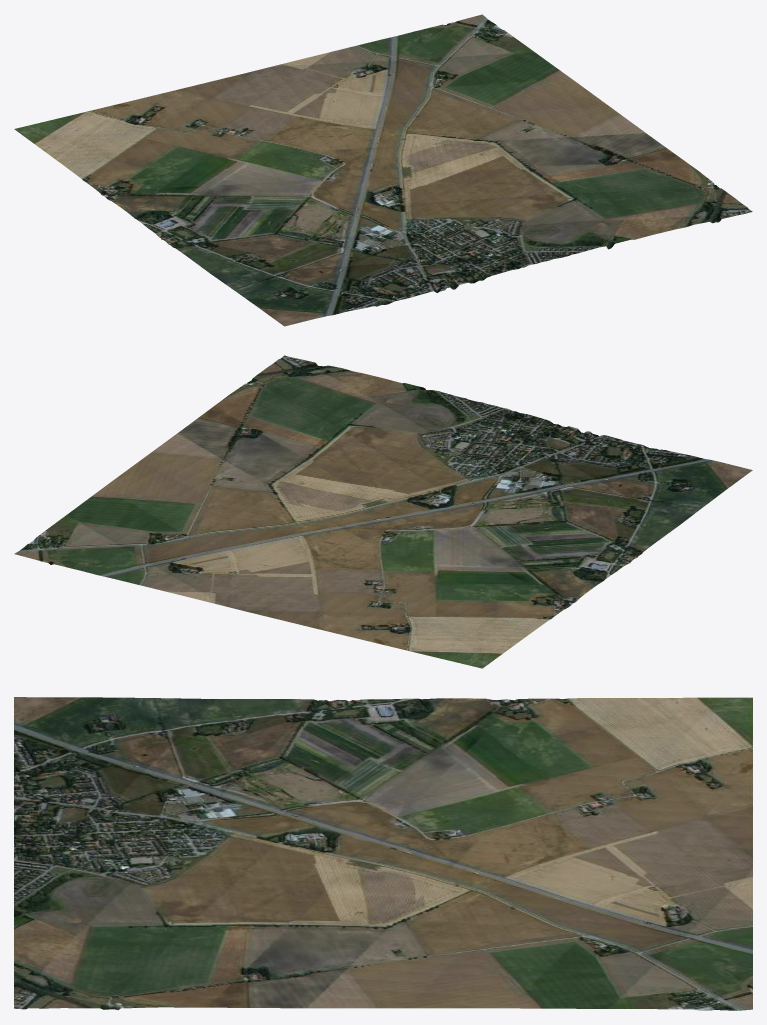
File: map_10_253_429.dae
3 renders of one model, top to bottom at view 1: azimuth 30°, elevation 25°; view 2: azimuth 150°, elevation 25°; view 3: azimuth 270°, elevation 25°, orthographic. The views are drawn at different scales.
Parts seen in each view (by area): view 1: Ter0; view 2: Ter0; view 3: Ter0.
Boxes of the visible parts, left/top/right/bottom form: Ter0: left=14, top=14, right=752, bottom=326; Ter0: left=14, top=355, right=752, bottom=668; Ter0: left=14, top=697, right=752, bottom=1010.
Size of the model in its own units: 2044 by 2044 by 34.8.
Materials: 3 (3 with a texture image).
